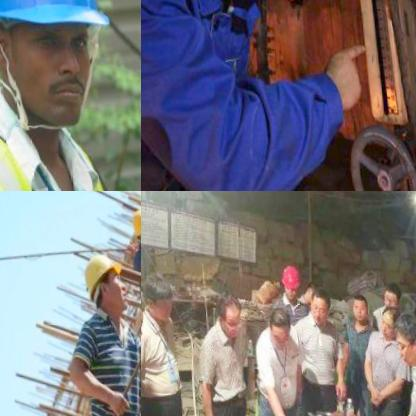helmet: (0, 0, 120, 143), (80, 246, 127, 313), (276, 260, 302, 298), (126, 201, 141, 241)
